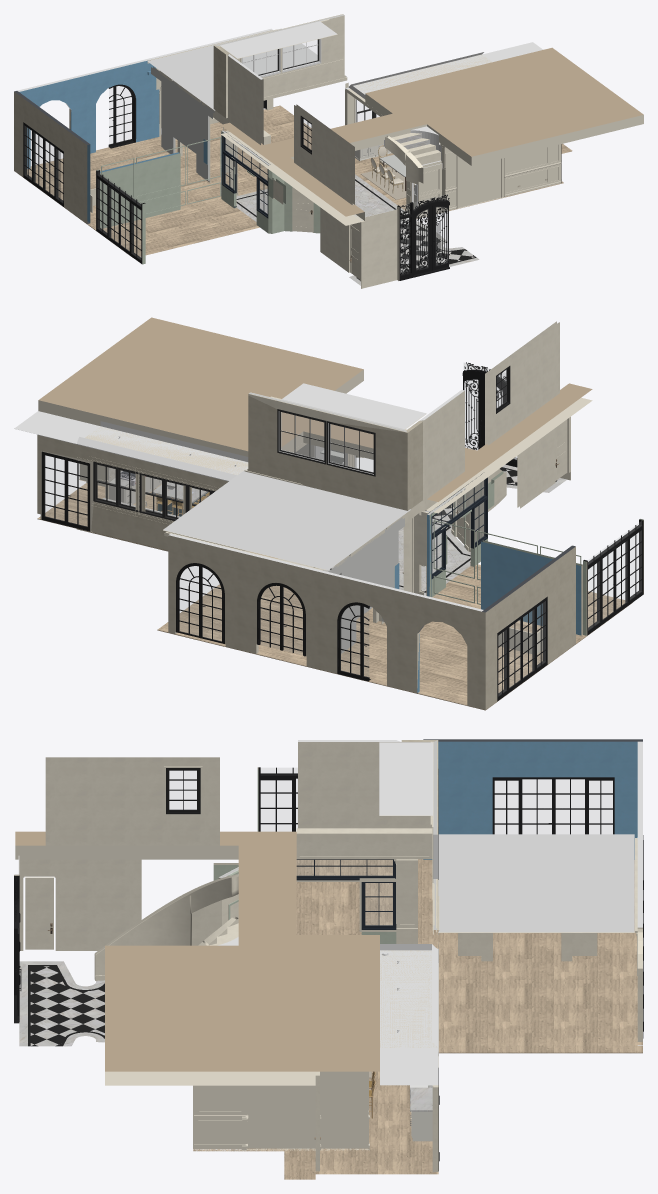
File: kitchen-becffad70d7c.glb
3 renders of one model, top to bottom at view 1: azimuth 30°, elevation 25°; view 2: azimuth 150°, elevation 25°; view 3: azimuth 270°, elevation 25°, orthographic. The views are drawn at different scales.
Visible parts, largest first — view 1: kitchen-look-2575515a05775d9e, kitchen-look-3b0077416469e01b, kitchen-look-969b861f9850351e, kitchen-19647d6da46c2b80, kitchen-look-039192b0560cfac3, kitchen-look-b19b106fc304963c, kitchen-look-4a969f5cc1ae3dfe, kitchen-look-746250f96522f643, kitchen-look-55ff1dfd7b659ec1, kitchen-look-245f595ae2832e16, kitchen-look-d5a4a1b5d3594c04, kitchen-look-7f59123d155b94ce (+37 smaller); view 2: kitchen-look-2575515a05775d9e, kitchen-look-969b861f9850351e, kitchen-look-3b0077416469e01b, kitchen-look-4a969f5cc1ae3dfe, kitchen-look-245f595ae2832e16, kitchen-look-039192b0560cfac3, kitchen-look-746250f96522f643, kitchen-bfb9fa537cd11d1d, kitchen-49bdd6945a2d0056, kitchen-look-7f59123d155b94ce, kitchen-look-b19b106fc304963c, kitchen-look-55ff1dfd7b659ec1 (+39 smaller); view 3: kitchen-look-2575515a05775d9e, kitchen-look-3b0077416469e01b, kitchen-look-4a969f5cc1ae3dfe, kitchen-look-746250f96522f643, kitchen-look-039192b0560cfac3, kitchen-look-85f0fd939e0fcc78, kitchen-look-7f59123d155b94ce, kitchen-9a0e9ee9b2a451d7, kitchen-look-e388ad8855329420, kitchen-look-daececc498878d00, kitchen-5b6bbac285e58726, kitchen-look-9d91b47435c6fb33 (+28 smaller).
Boxes of the visible parts, x1=… form: kitchen-look-2575515a05775d9e: x1=221, y1=47, x2=643, y2=225; kitchen-look-3b0077416469e01b: x1=14, y1=105, x2=572, y2=257; kitchen-look-969b861f9850351e: x1=17, y1=28, x2=273, y2=168; kitchen-19647d6da46c2b80: x1=444, y1=144, x2=560, y2=208; kitchen-look-039192b0560cfac3: x1=14, y1=91, x2=90, y2=223; kitchen-look-b19b106fc304963c: x1=100, y1=152, x2=180, y2=228; kitchen-look-4a969f5cc1ae3dfe: x1=147, y1=28, x2=346, y2=110; kitchen-look-746250f96522f643: x1=294, y1=104, x2=354, y2=205; kitchen-look-55ff1dfd7b659ec1: x1=151, y1=67, x2=214, y2=180; kitchen-look-245f595ae2832e16: x1=213, y1=14, x2=344, y2=108; kitchen-look-d5a4a1b5d3594c04: x1=361, y1=209, x2=397, y2=288; kitchen-look-7f59123d155b94ce: x1=228, y1=54, x2=263, y2=144; kitchen-look-2575515a05775d9e: x1=38, y1=317, x2=592, y2=513; kitchen-look-969b861f9850351e: x1=168, y1=533, x2=483, y2=708; kitchen-look-3b0077416469e01b: x1=37, y1=479, x2=632, y2=710; kitchen-look-4a969f5cc1ae3dfe: x1=163, y1=471, x2=410, y2=570; kitchen-look-245f595ae2832e16: x1=248, y1=392, x2=407, y2=510; kitchen-look-039192b0560cfac3: x1=481, y1=545, x2=575, y2=709; kitchen-look-746250f96522f643: x1=485, y1=321, x2=559, y2=445; kitchen-bfb9fa537cd11d1d: x1=76, y1=444, x2=246, y2=551; kitchen-49bdd6945a2d0056: x1=76, y1=421, x2=248, y2=480; kitchen-look-7f59123d155b94ce: x1=419, y1=390, x2=464, y2=511; kitchen-look-b19b106fc304963c: x1=481, y1=540, x2=582, y2=635; kitchen-look-55ff1dfd7b659ec1: x1=328, y1=517, x2=404, y2=653; kitchen-look-2575515a05775d9e: x1=15, y1=831, x2=379, y2=1085; kitchen-look-3b0077416469e01b: x1=284, y1=859, x2=642, y2=1179; kitchen-look-4a969f5cc1ae3dfe: x1=438, y1=834, x2=634, y2=932; kitchen-look-746250f96522f643: x1=45, y1=757, x2=219, y2=845; kitchen-look-039192b0560cfac3: x1=423, y1=739, x2=642, y2=859; kitchen-look-85f0fd939e0fcc78: x1=19, y1=859, x2=141, y2=950; kitchen-look-7f59123d155b94ce: x1=298, y1=740, x2=401, y2=828; kitchen-9a0e9ee9b2a451d7: x1=380, y1=950, x2=438, y2=1047; kitchen-look-e388ad8855329420: x1=30, y1=966, x2=104, y2=1046; kitchen-look-daececc498878d00: x1=296, y1=828, x2=432, y2=859; kitchen-5b6bbac285e58726: x1=247, y1=1085, x2=315, y2=1150; kitchen-look-9d91b47435c6fb33: x1=379, y1=742, x2=432, y2=815.
Size of the model in its own units: 20.84 by 6.36 by 16.8.
71 materials, 15 textured.
